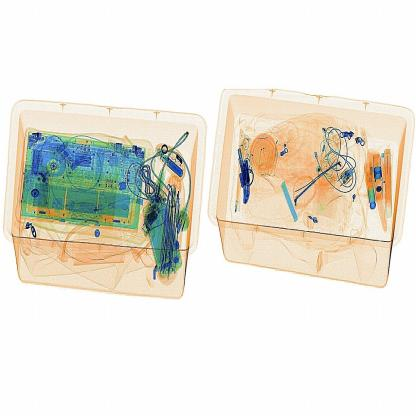knife: (236, 150, 263, 208)
